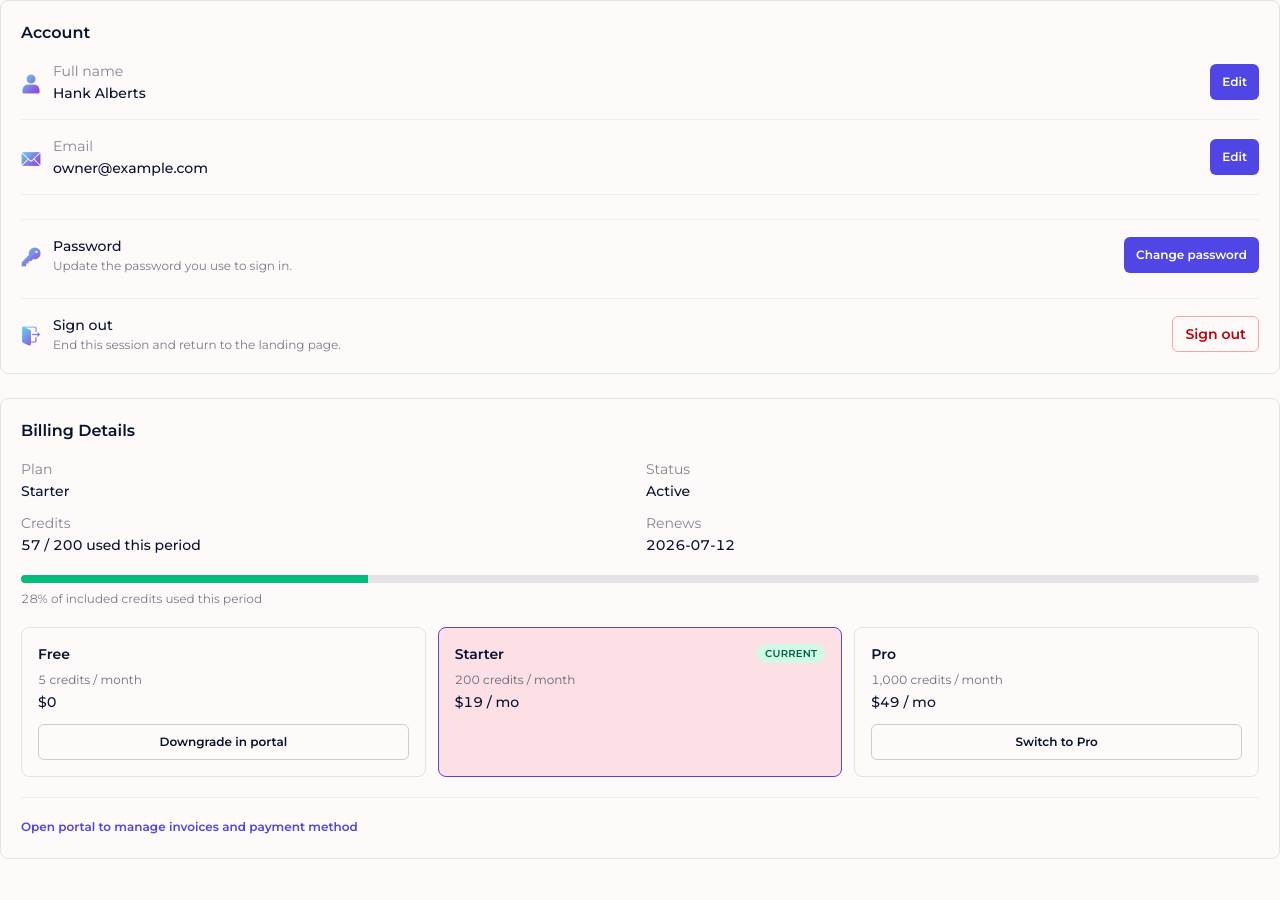
Scenario: AccountForm — editable full name › PATCHes /api/v1/account/profile on Save and shows the new value
Click the button with aria-label "Edit full name": (1235, 82) [1210,64,1259,100]
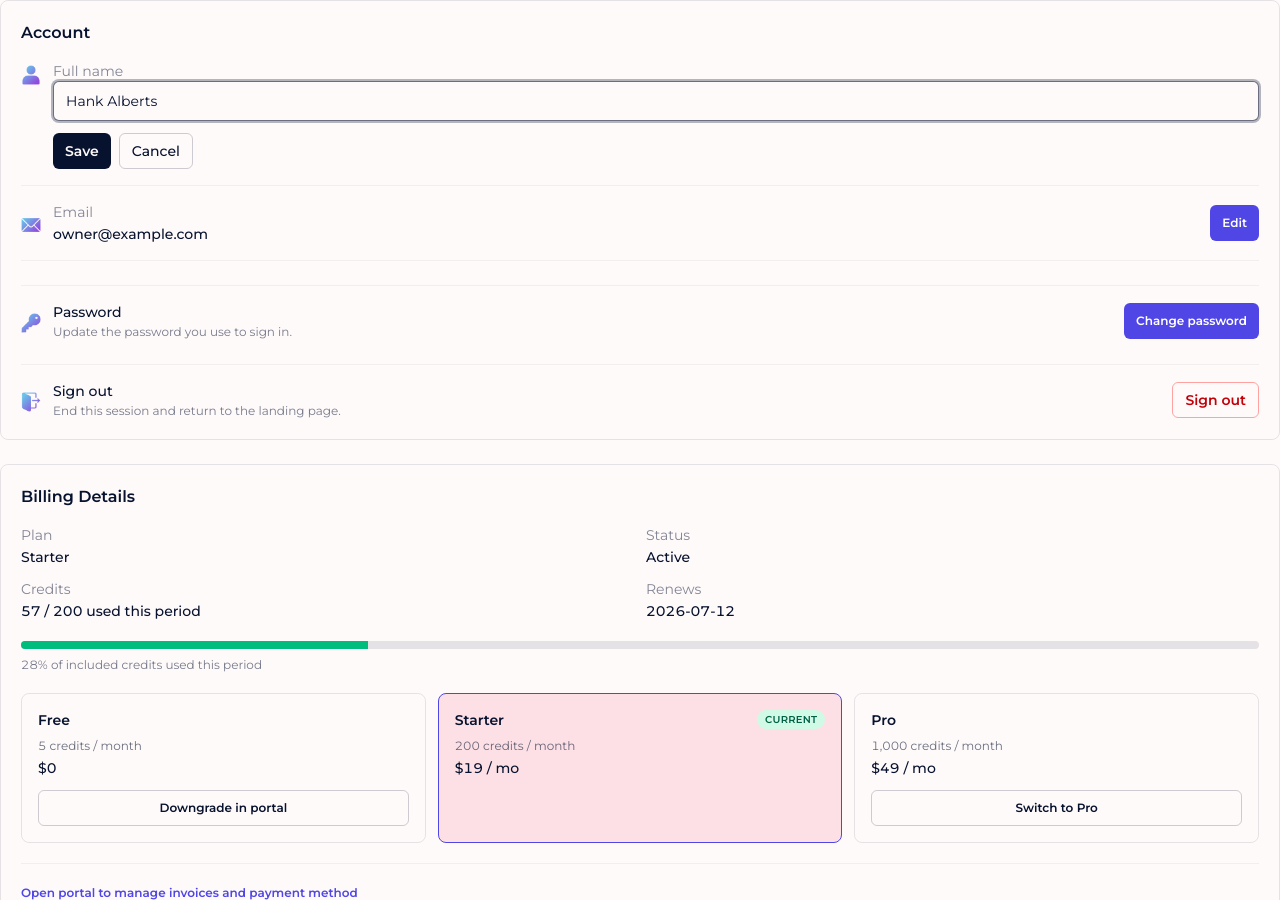
Replace the text in the field labelled "Full name" with "New Name": (656, 101) [53,81,1259,121]
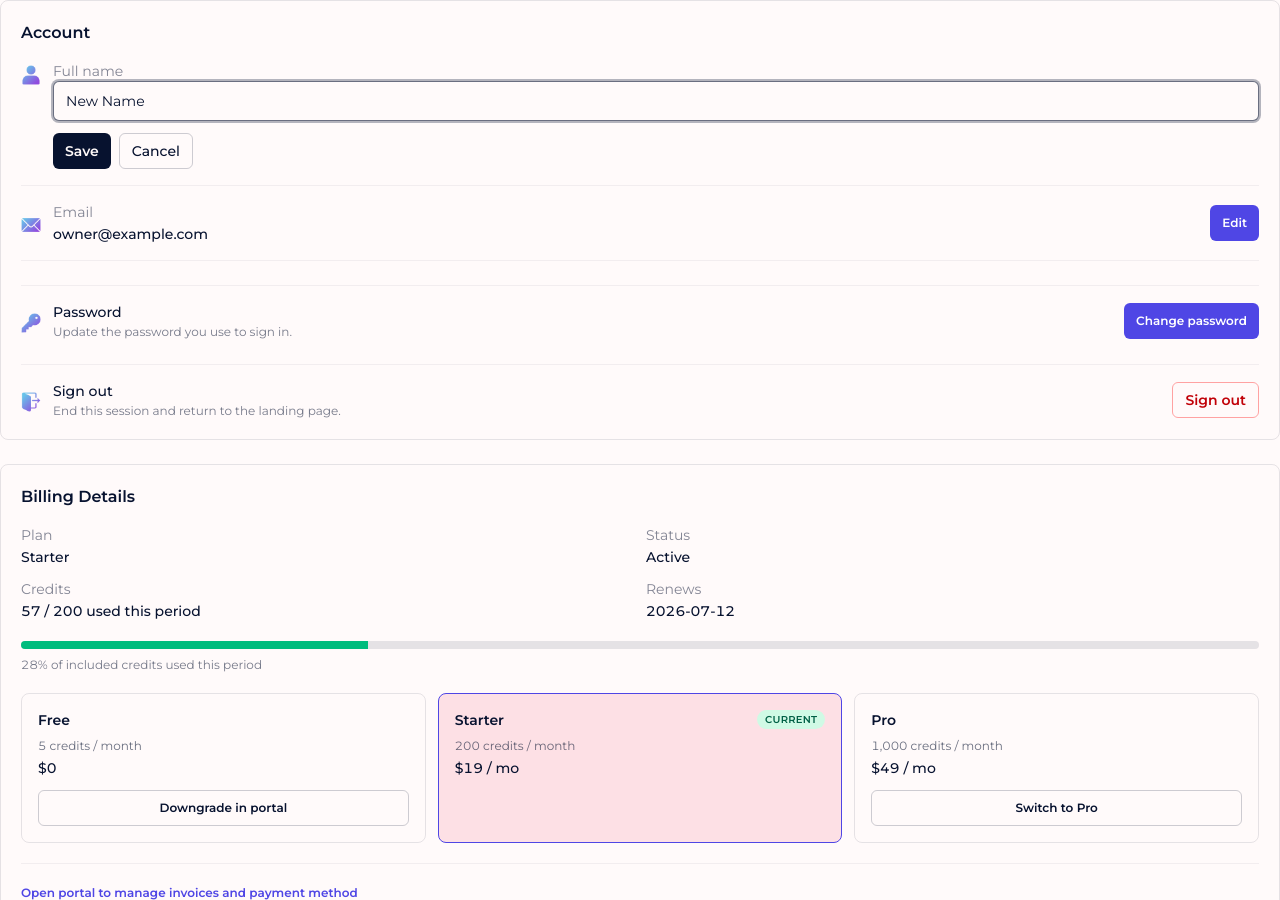
Click the button "Save": (82, 151) [53,133,111,169]
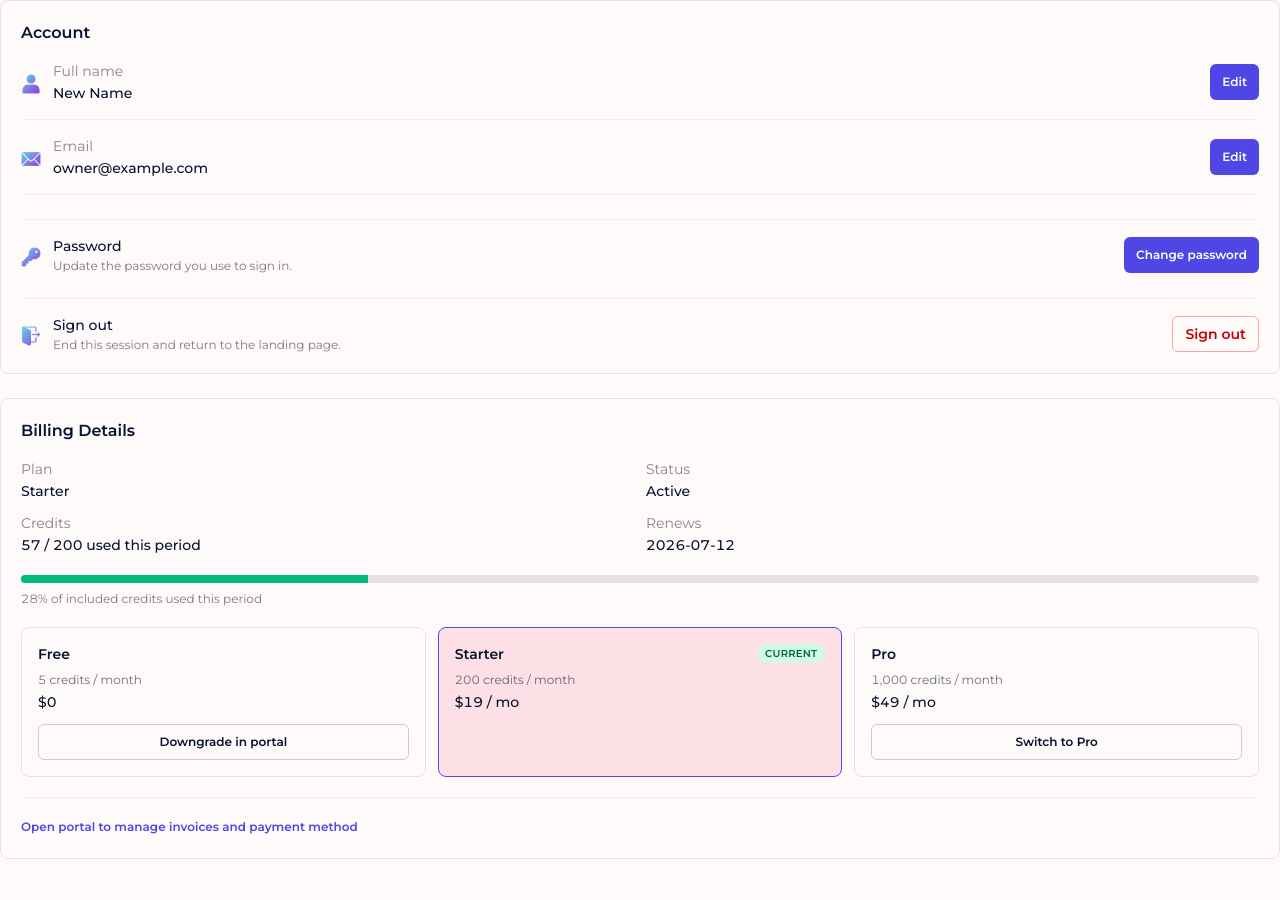
Now the text "New Name" is shown, box [53,84,132,102]
